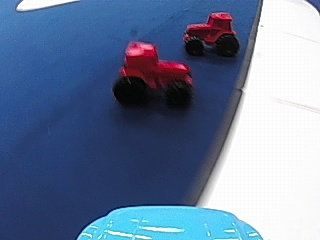Tracktor: (109, 41, 198, 107), (182, 10, 239, 58)
